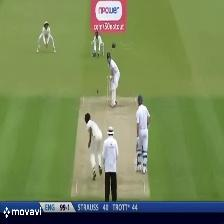ball: (93, 87, 102, 95)
batsman: (102, 50, 121, 109)
